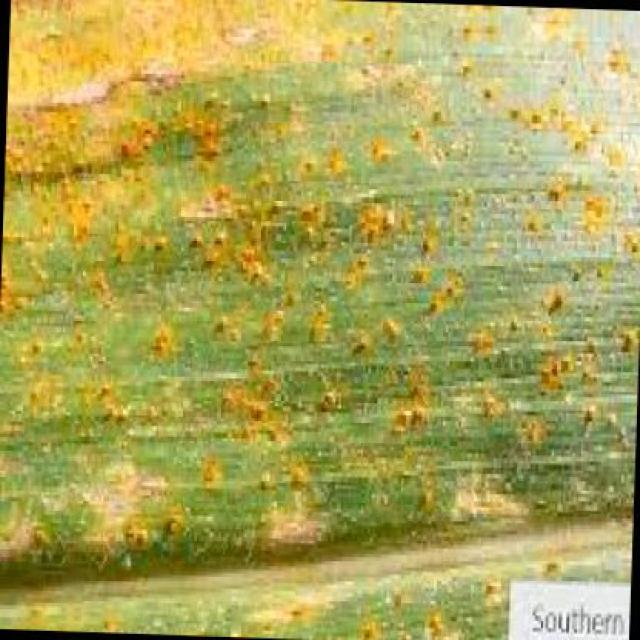Corn_Rust: (20, 15, 625, 560)
